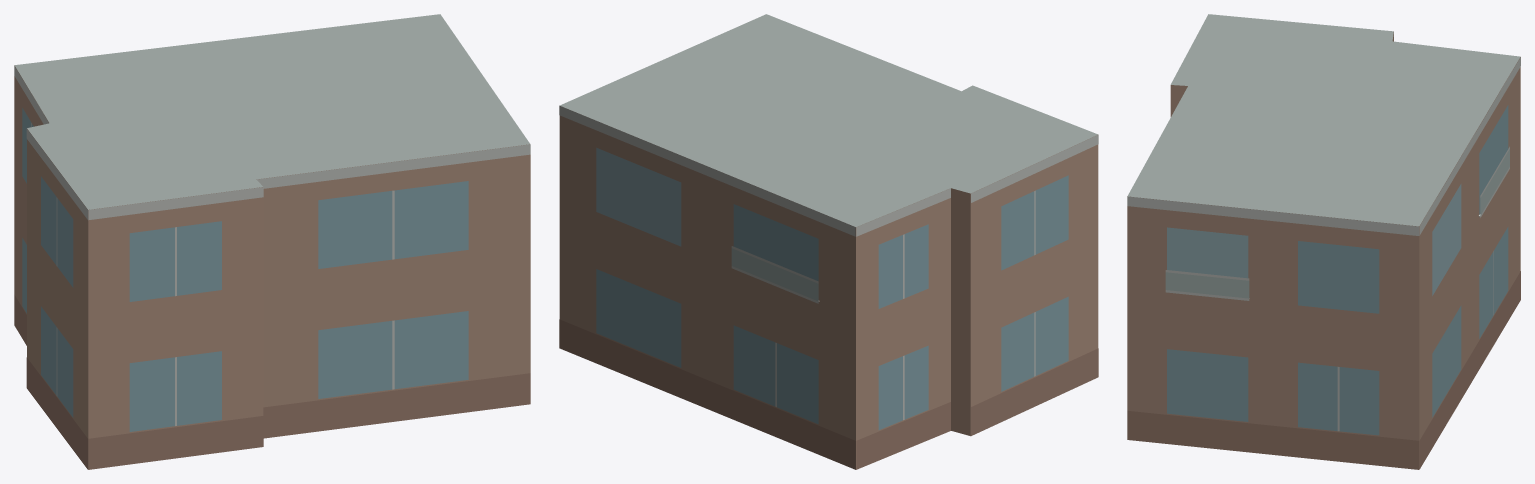
File: survey-upis-33031070.glb
3 views of the same model, side by side, from view 1: azimuth 30°, elevation 25°; view 2: azimuth 150°, elevation 25°; view 3: azimuth 270°, elevation 25° (orthographic). The views are drawn at different scales.
Visible parts, largest first — view 1: survey-upis-33031070.tmp; view 2: survey-upis-33031070.tmp; view 3: survey-upis-33031070.tmp.
Boxes of the visible parts, x1=… form: survey-upis-33031070.tmp: x1=14, y1=14, x2=530, y2=469; survey-upis-33031070.tmp: x1=559, y1=14, x2=1098, y2=469; survey-upis-33031070.tmp: x1=1127, y1=14, x2=1520, y2=469.
Bounding box in the file's own units: 11.43 × 6.1 × 8.94.
